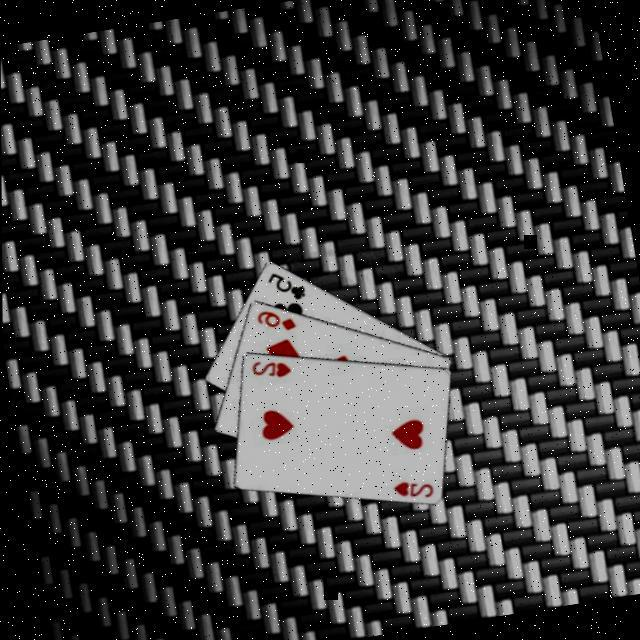2H: (390, 472, 438, 504), (248, 352, 295, 382)
5C: (264, 263, 311, 306)
6D: (254, 302, 300, 336)
